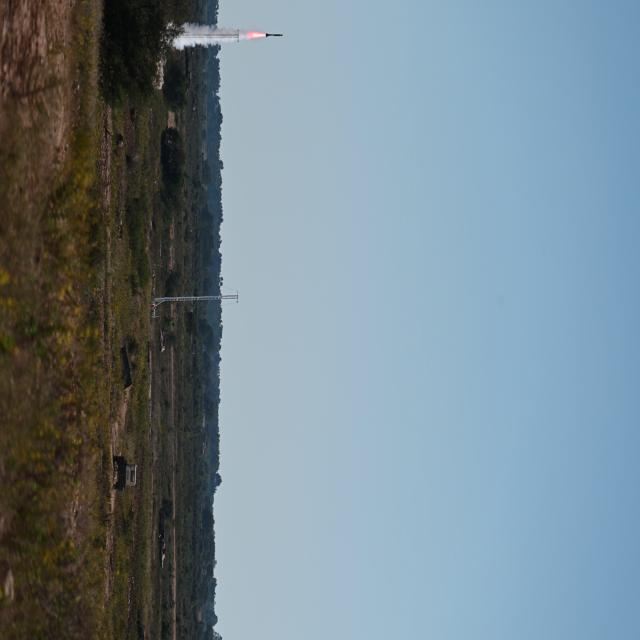Rocket: (266, 33, 283, 38)
